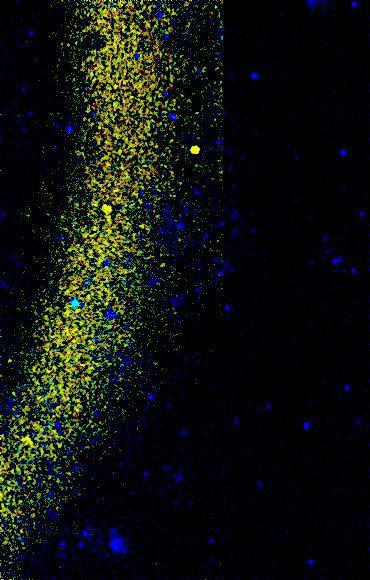star: (179, 136, 209, 166)
